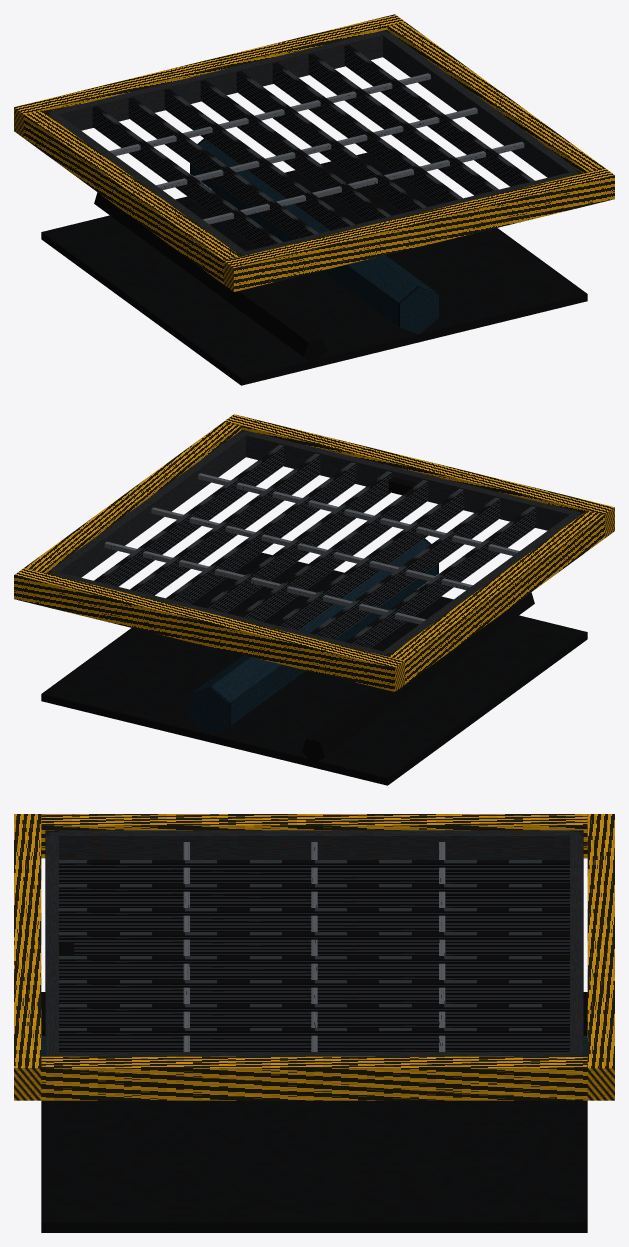
Rendered from floor_grating.glb.
The picture shows the model from 3 angles, top to bottom: view 1: azimuth 30°, elevation 25°; view 2: azimuth 150°, elevation 25°; view 3: azimuth 270°, elevation 25°; orthographic projection. The views are drawn at different scales.
Parts seen in each view (by area): view 1: floor_grating; view 2: floor_grating; view 3: floor_grating.
Part boxes in pixels (bbox=[...]): floor_grating: bbox=[14, 14, 614, 385]; floor_grating: bbox=[14, 414, 614, 785]; floor_grating: bbox=[14, 814, 614, 1232].
Size of the model in its own units: 1.1 by 0.356 by 1.1.
1 material, 1 textured.
